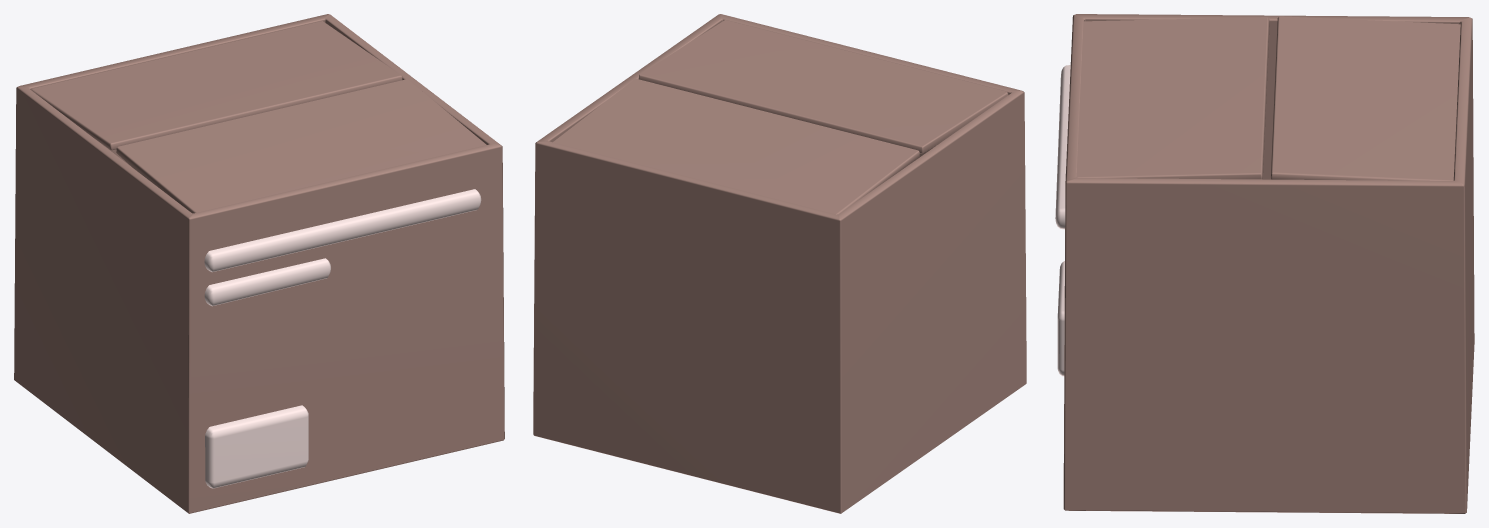
Rendered from Public_6_Box_1.glb.
3 views of the same model, side by side, from view 1: azimuth 30°, elevation 25°; view 2: azimuth 150°, elevation 25°; view 3: azimuth 270°, elevation 25° (orthographic). The views are drawn at different scales.
Visible parts, largest first — view 1: Public_6_Box_1; view 2: Public_6_Box_1; view 3: Public_6_Box_1.
Part boxes in pixels (bbox=[...]): Public_6_Box_1: bbox=[14, 14, 504, 513]; Public_6_Box_1: bbox=[533, 14, 1026, 513]; Public_6_Box_1: bbox=[1055, 14, 1474, 513].
Bounding box in the file's own units: 1.75 × 1.56 × 1.78.
1 material, 1 textured.
